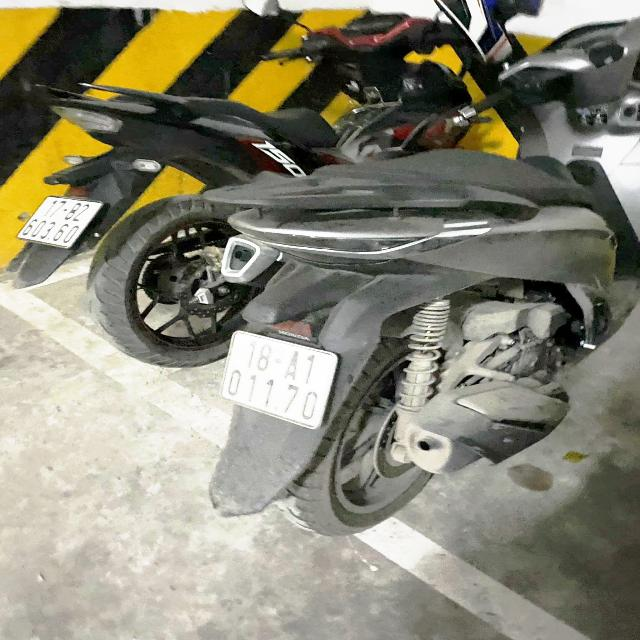license_plate: (216, 327, 344, 437), (12, 193, 110, 255)
